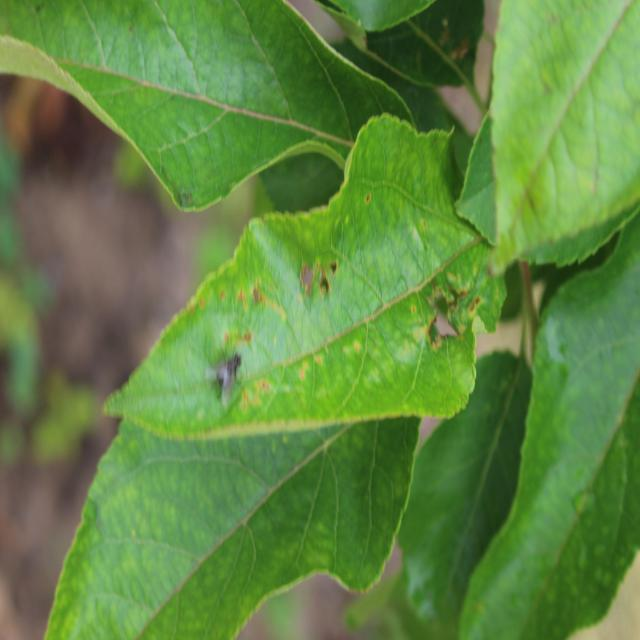rust: (102, 112, 508, 443)
